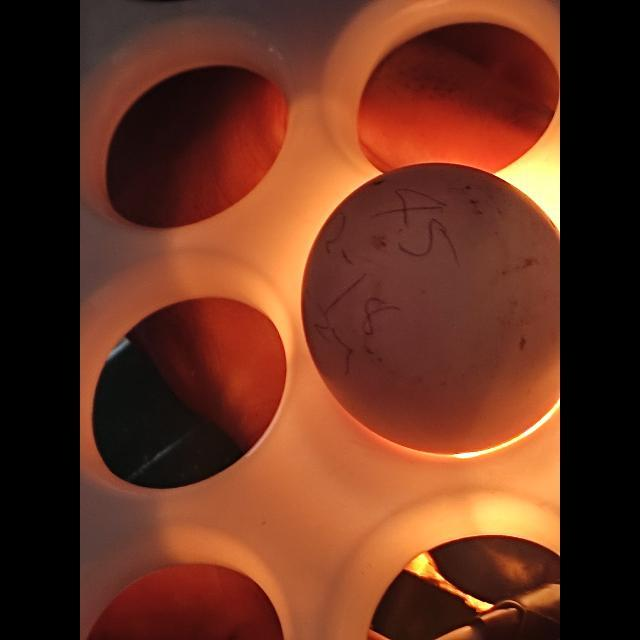Fertile: (302, 159, 560, 451)
